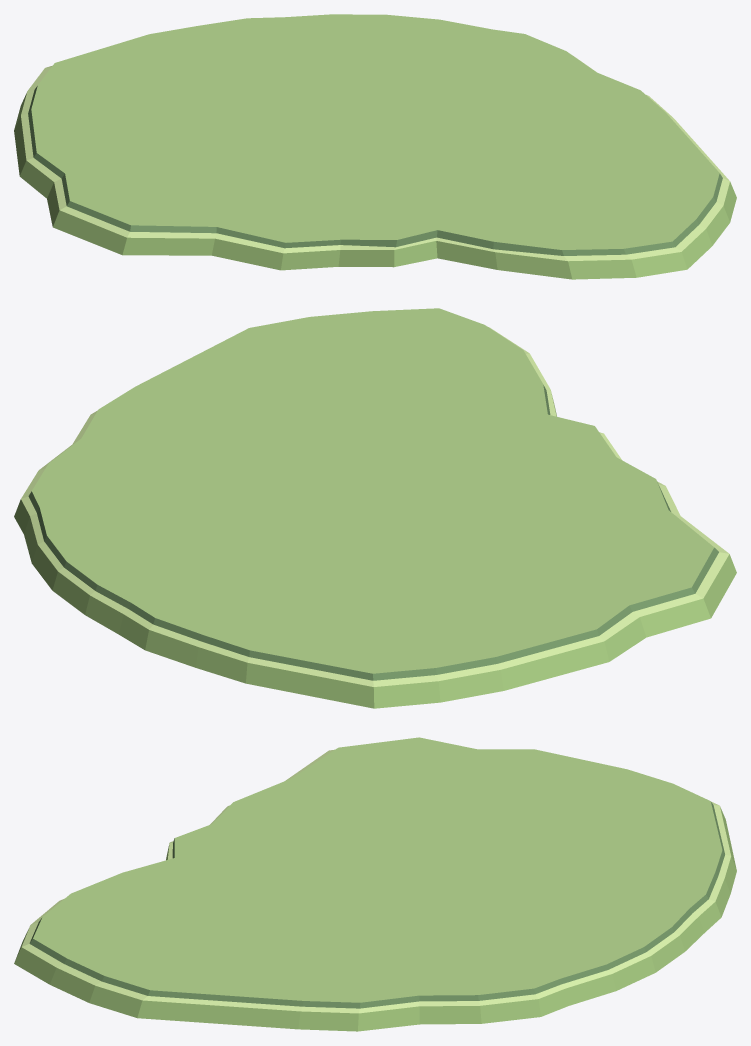
Rendered from groundPlatform3.fbx.
3 views of the same model, one above another, from view 1: azimuth 30°, elevation 25°; view 2: azimuth 150°, elevation 25°; view 3: azimuth 270°, elevation 25° (orthographic). The views are drawn at different scales.
Parts seen in each view (by area): view 1: Cylinder.001; view 2: Cylinder.001; view 3: Cylinder.001.
Boxes of the visible parts, box(x1,y1,x2,y2) form: Cylinder.001: box(14, 14, 736, 279); Cylinder.001: box(14, 308, 736, 708); Cylinder.001: box(14, 737, 736, 1031).
Bounding box in the file's own units: 964 × 43.26 × 1052.
